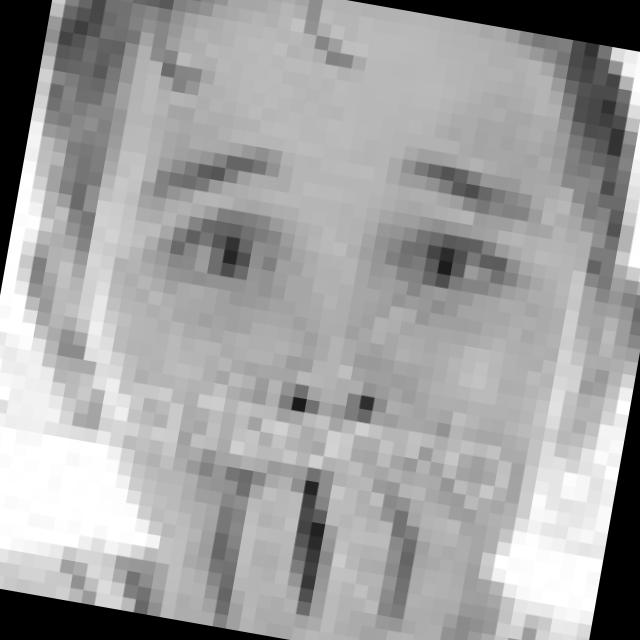fear: (70, 104, 552, 588)
